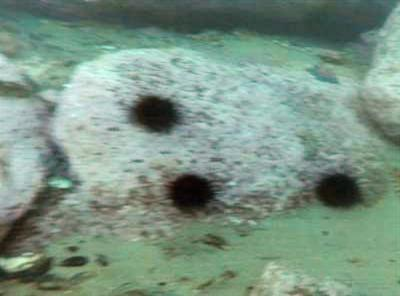urchin: (129, 92, 182, 137), (167, 171, 217, 217), (316, 170, 363, 211)
